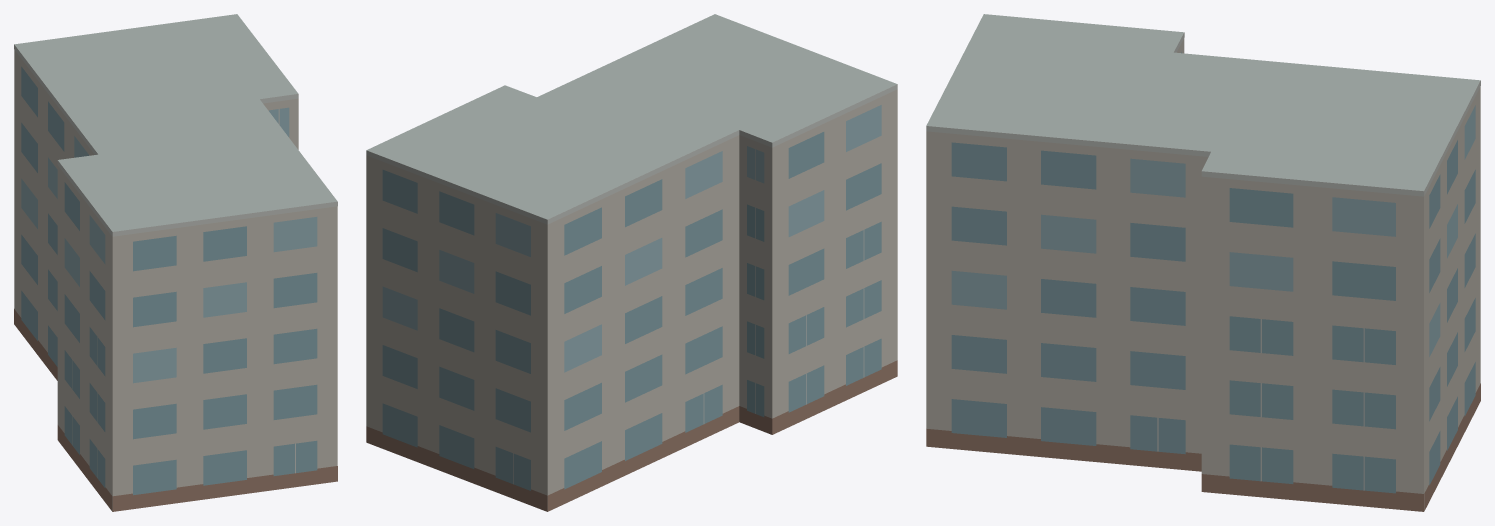
The model's file is survey-upis-32908949.glb.
The picture shows the model from 3 angles, left to right: view 1: azimuth 30°, elevation 25°; view 2: azimuth 150°, elevation 25°; view 3: azimuth 270°, elevation 25°; orthographic projection. The views are drawn at different scales.
Visible parts, largest first — view 1: survey-upis-32908949.tmp; view 2: survey-upis-32908949.tmp; view 3: survey-upis-32908949.tmp.
Part boxes in pixels (<box>): survey-upis-32908949.tmp: <box>14,14,337,511</box>; survey-upis-32908949.tmp: <box>366,14,897,511</box>; survey-upis-32908949.tmp: <box>926,14,1480,511</box>.
Size of the model in its own units: 17.01 by 14.35 by 22.5.
